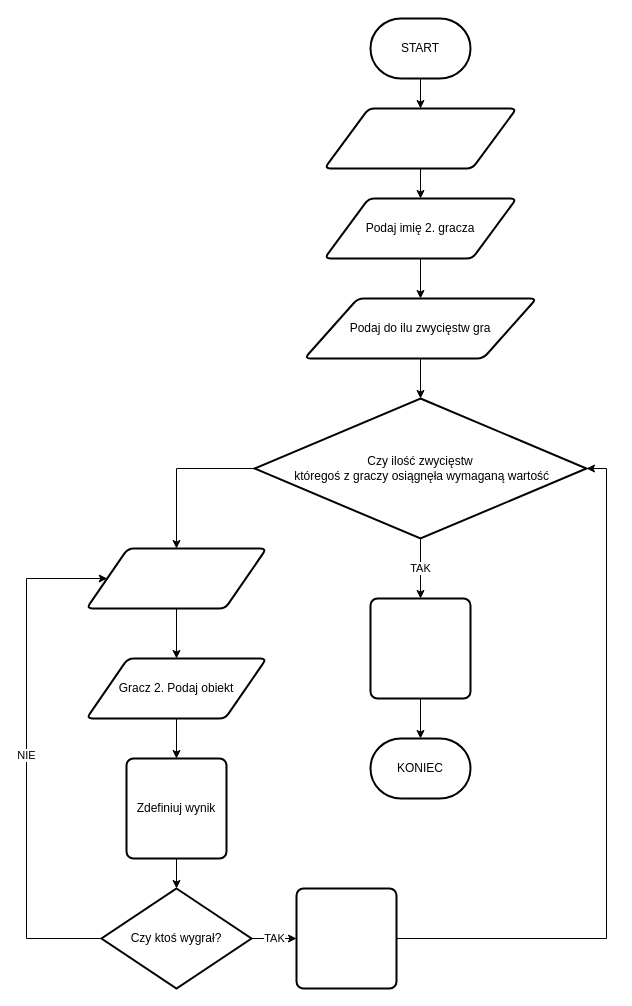
Image size: 632x1006. Some labels were removed from this diagram. Each missing label, with the centre of its shape:
"Gracz 1. Podaj obiekt" goes at pixel 176 578.
"Podaj imię 1. gracza" goes at pixel 420 138.
"Wyświetl imię gracza który wygrał" goes at pixel 420 648.
"Zwiększ ilość zwycięstw odpowiedniego gracza" goes at pixel 346 938.
